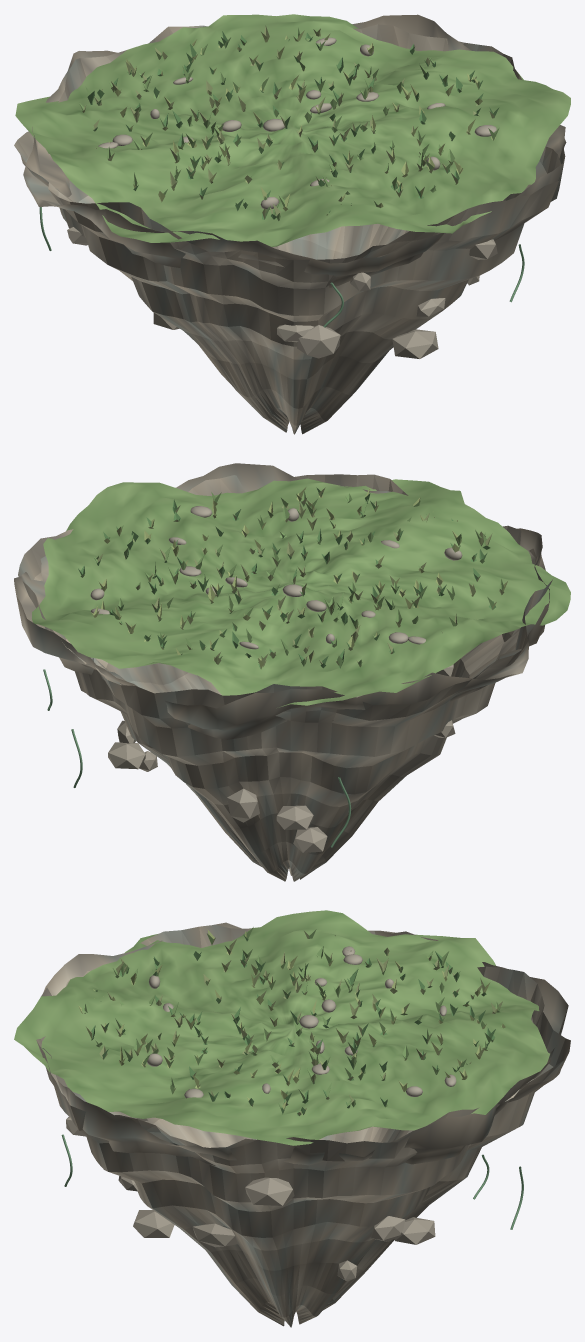
Rendered from veyra_floating_island_03.glb.
3 renders of one model, top to bottom at view 1: azimuth 30°, elevation 25°; view 2: azimuth 150°, elevation 25°; view 3: azimuth 270°, elevation 25°, orthographic. The views are drawn at different scales.
Visible parts, largest first — view 1: Veyra Floating Island 03; view 2: Veyra Floating Island 03; view 3: Veyra Floating Island 03.
Boxes of the visible parts, bbox=[...] form: Veyra Floating Island 03: bbox=[14, 14, 570, 434]; Veyra Floating Island 03: bbox=[14, 463, 570, 881]; Veyra Floating Island 03: bbox=[14, 910, 570, 1327].
Size of the model in its own units: 2.11 by 1.33 by 2.15.
